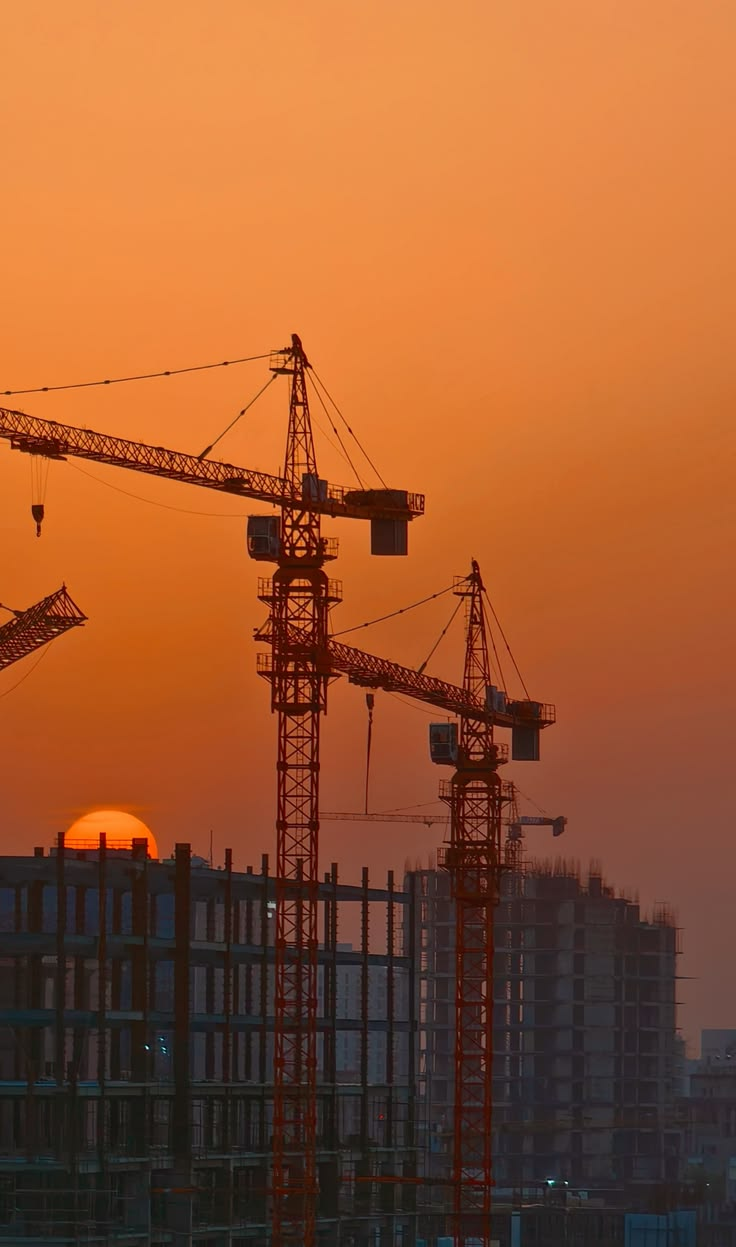crane: (17, 277, 406, 1237), (253, 526, 634, 1233)
